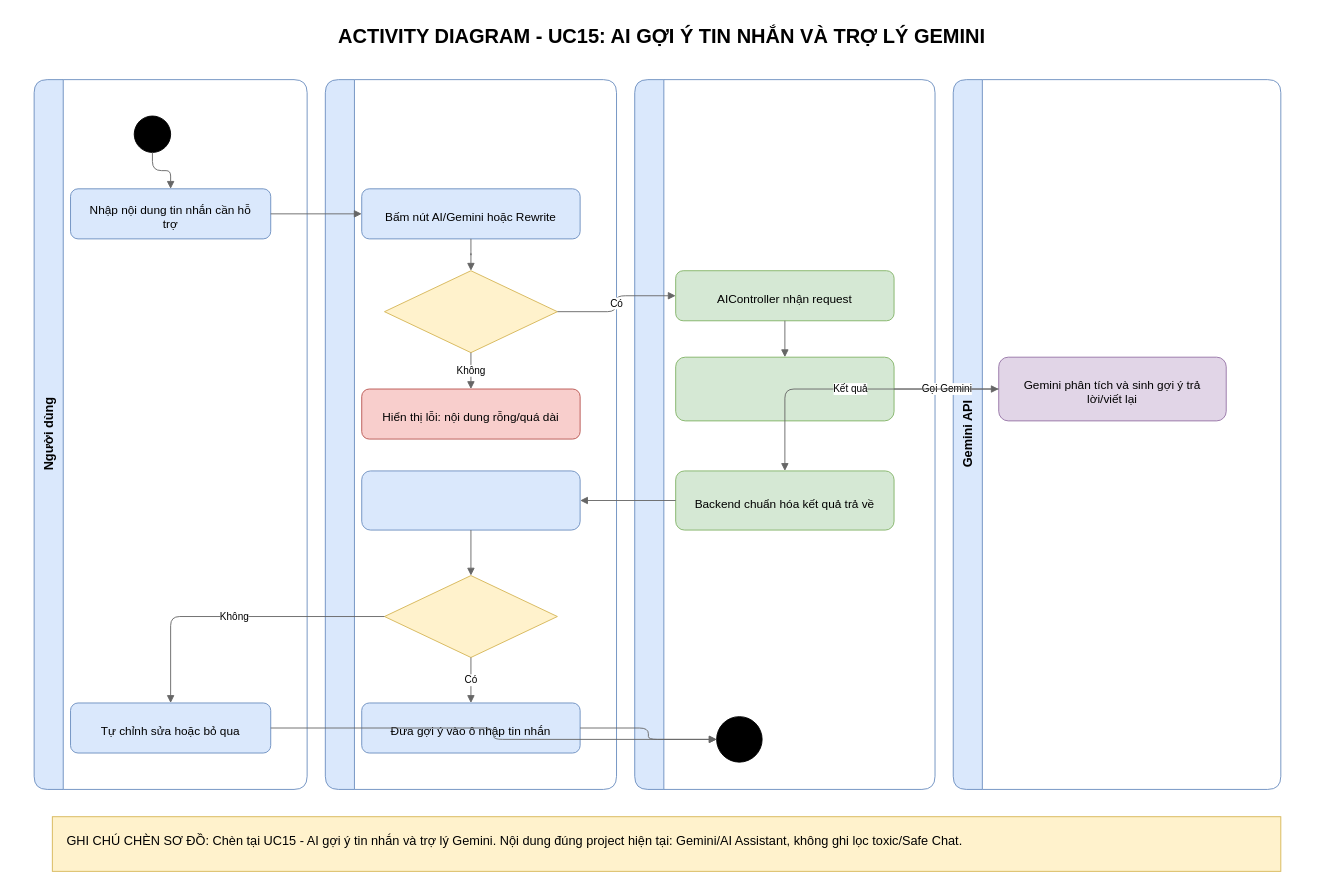
This 1323x887 diagram has some shape labels left out. Here are the shapes that lost their labels. From the top down, the box of each, then its label:
(384, 270, 557, 353): Nội dung hợp lệ?
(675, 356, 894, 421): AIService tạo prompt theo ngữ cảnh chat
(324, 79, 617, 789): Web/Mobile Client
(634, 79, 935, 789): Backend Spring Boot
(361, 470, 580, 530): Hiển thị gợi ý cho người dùng
(384, 575, 557, 657): Áp dụng gợi ý?
